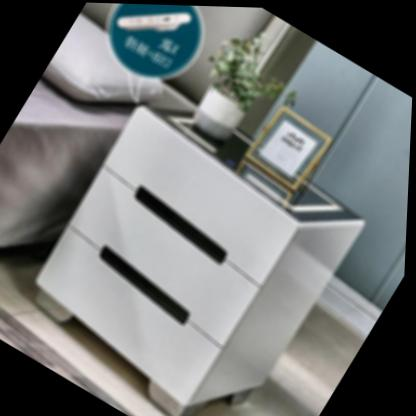Nightstand: (5, 75, 379, 416)
